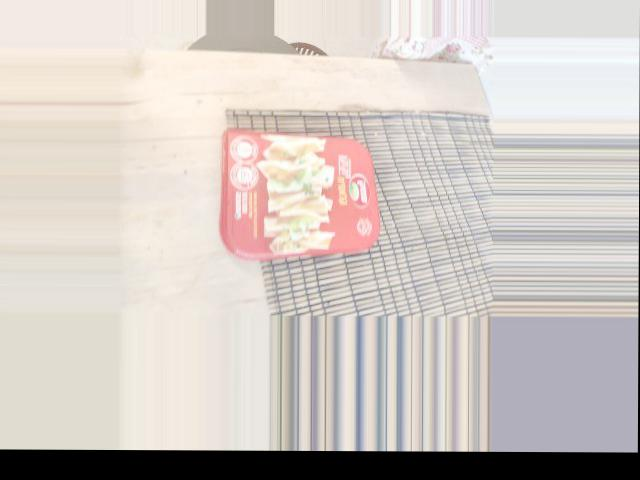cheese: (213, 137, 378, 247)
